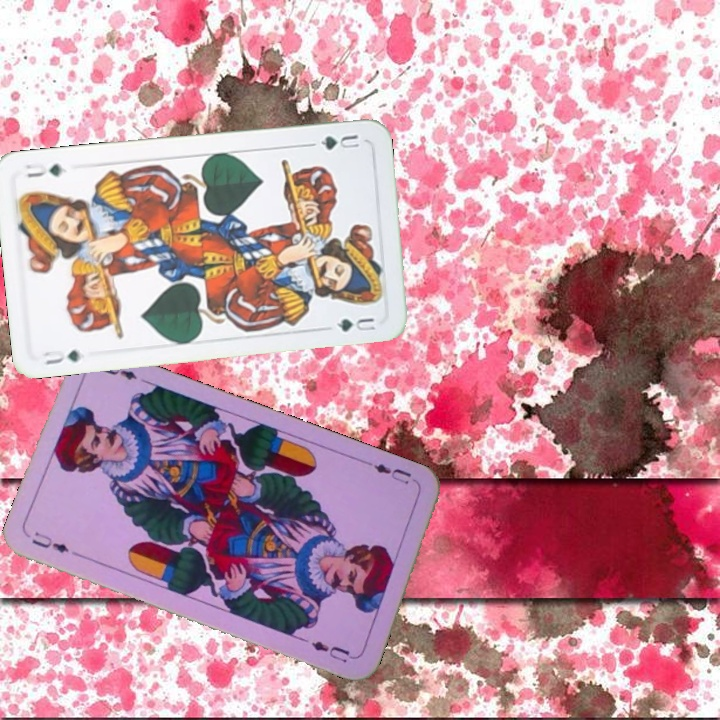EU: (363, 457, 415, 487), (27, 527, 72, 556)
GU: (316, 130, 362, 153), (38, 345, 83, 368)
